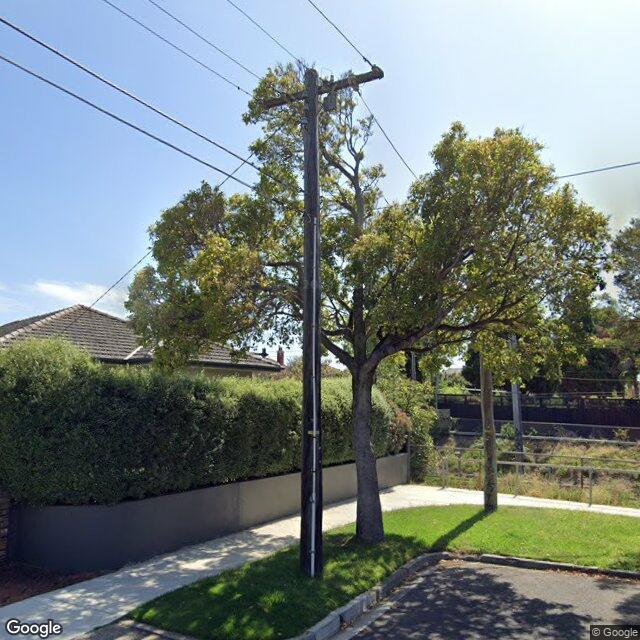crossarm: (252, 57, 386, 110)
timber-pole: (298, 68, 325, 579), (480, 341, 499, 510)
